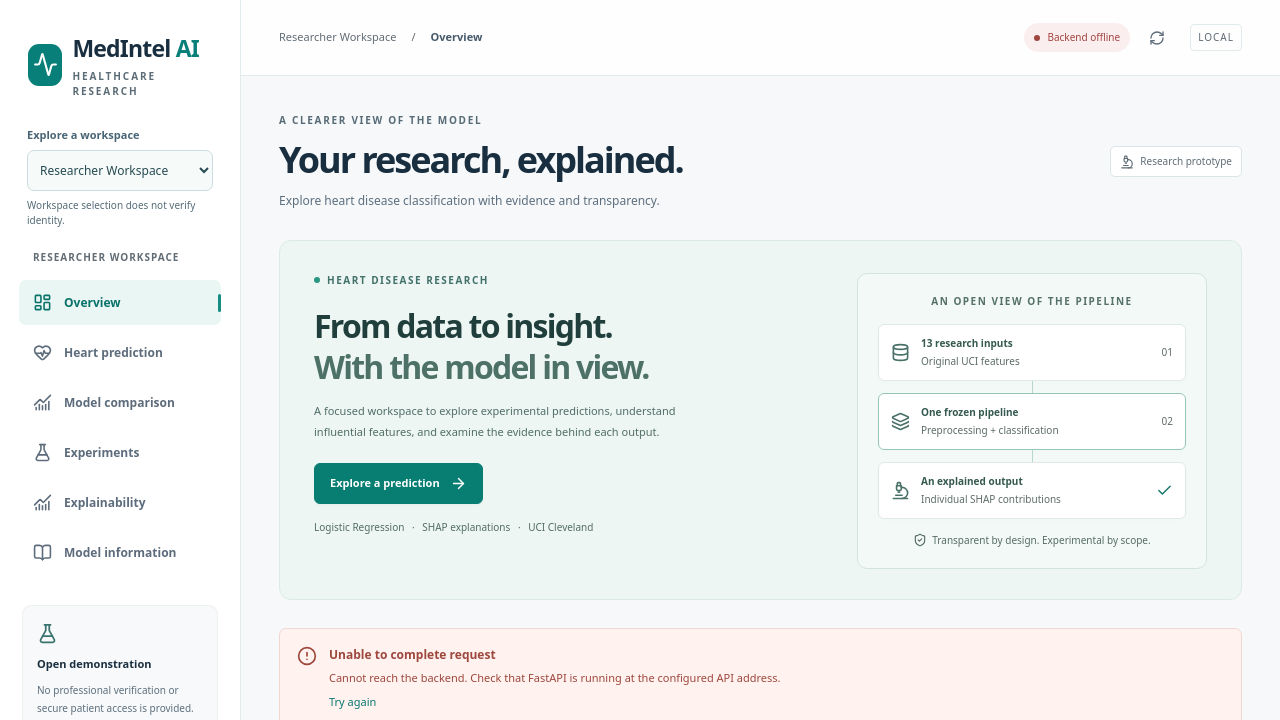
research workspace › handles offline status, errors and recovery without showing sensitive exception text
Expected: the text "Backend offline" is shown, 1024,23 -> 1130,52
Expected: the message that starts with "Unable to complete request" shows "Cannot reach the backend", 329,670 -> 780,685
Click the button "Try again" at (353, 703), box 329,687 -> 376,718
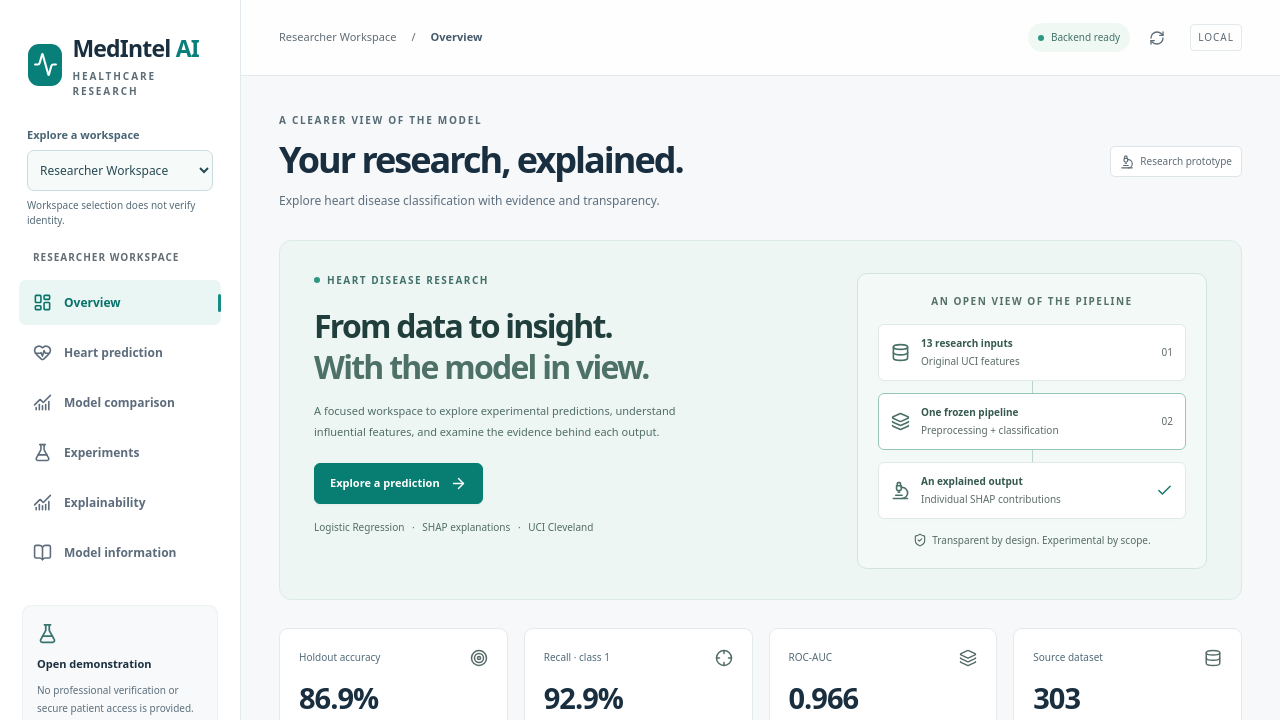
Expected: the text "Backend ready" is shown, 1028,23 -> 1130,52
Expected: the text "86.9%" is shown, 299,678 -> 378,717
